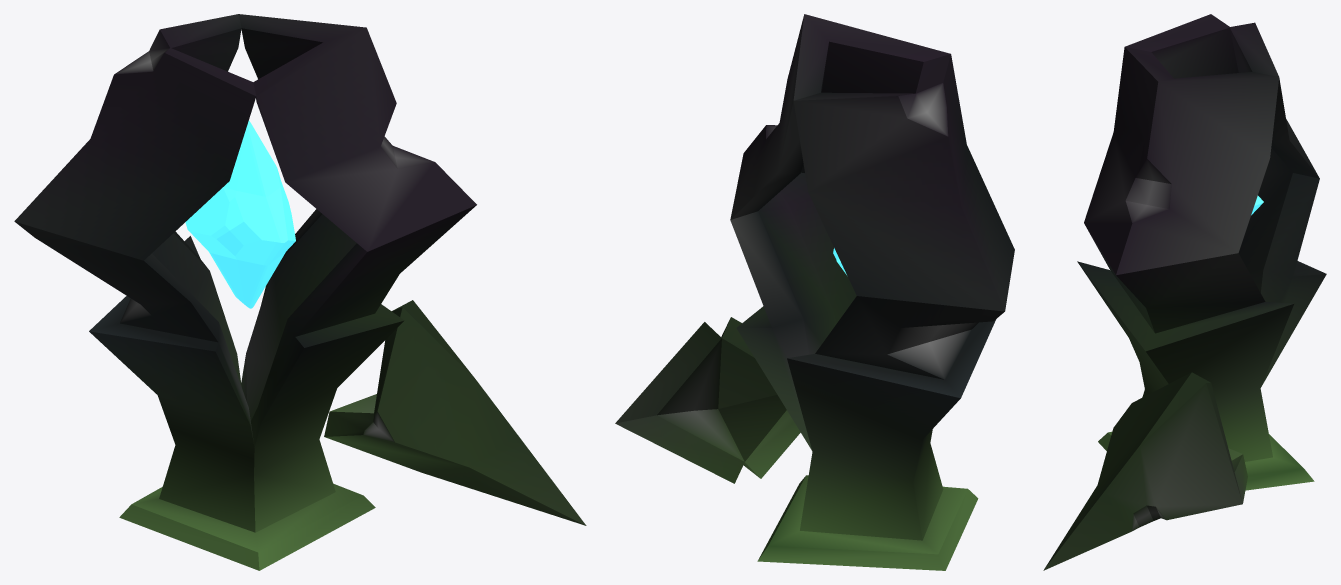
Rendered from Ruine1 (2).fbx.
The picture shows the model from 3 angles, left to right: view 1: azimuth 30°, elevation 25°; view 2: azimuth 150°, elevation 25°; view 3: azimuth 270°, elevation 25°; orthographic projection. The views are drawn at different scales.
Visible parts, largest first — view 1: Plane.001, Cube; view 2: Plane.001; view 3: Plane.001.
Boxes of the visible parts, left/top/right/bottom form: Plane.001: left=14, top=14, right=586, bottom=570; Cube: left=185, top=120, right=295, bottom=308; Plane.001: left=615, top=14, right=1014, bottom=570; Plane.001: left=1043, top=14, right=1326, bottom=570.
Size of the model in its own units: 545 by 588 by 357.
